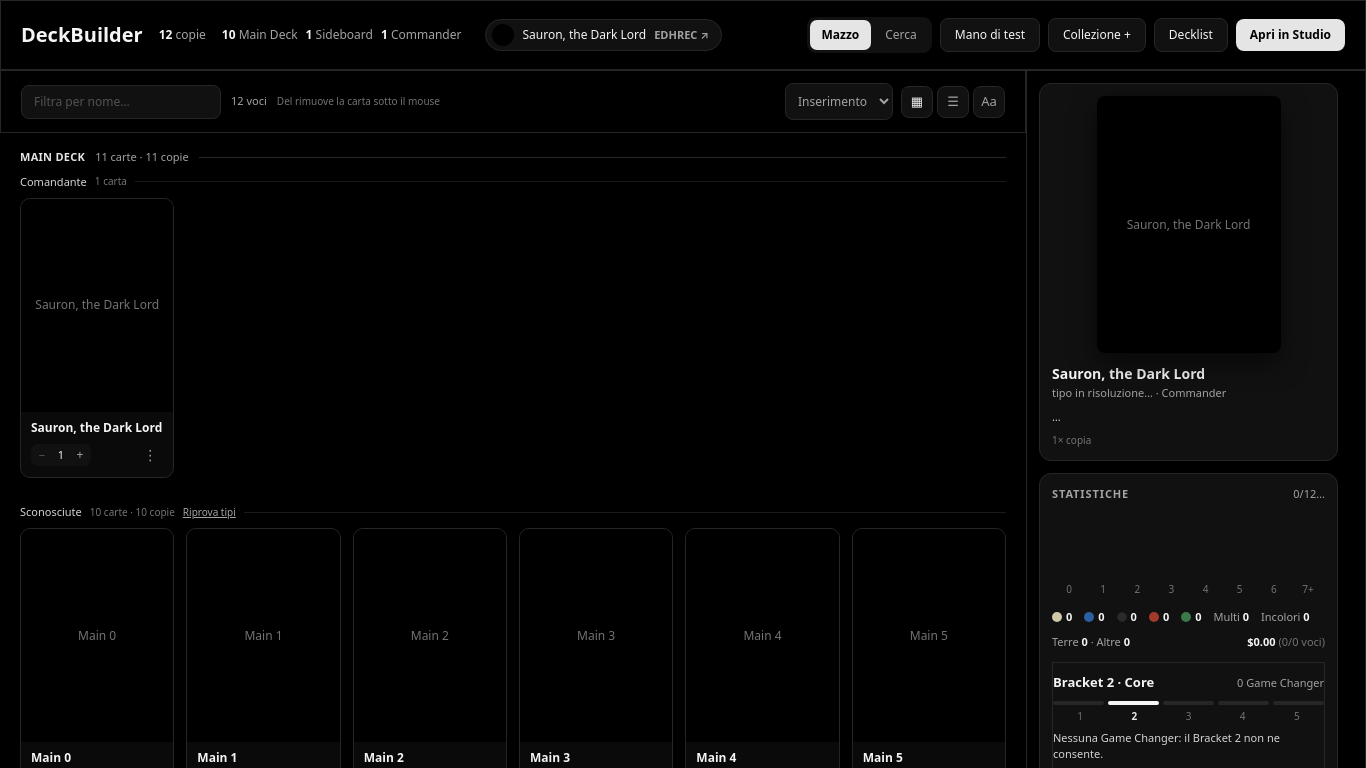
Test: DeckBuilder › mano di test: pesca dalla mainboard, mulligan e pescata
Click the button with test id "db-test-hand" at (990, 35), box 940,18 -> 1040,52
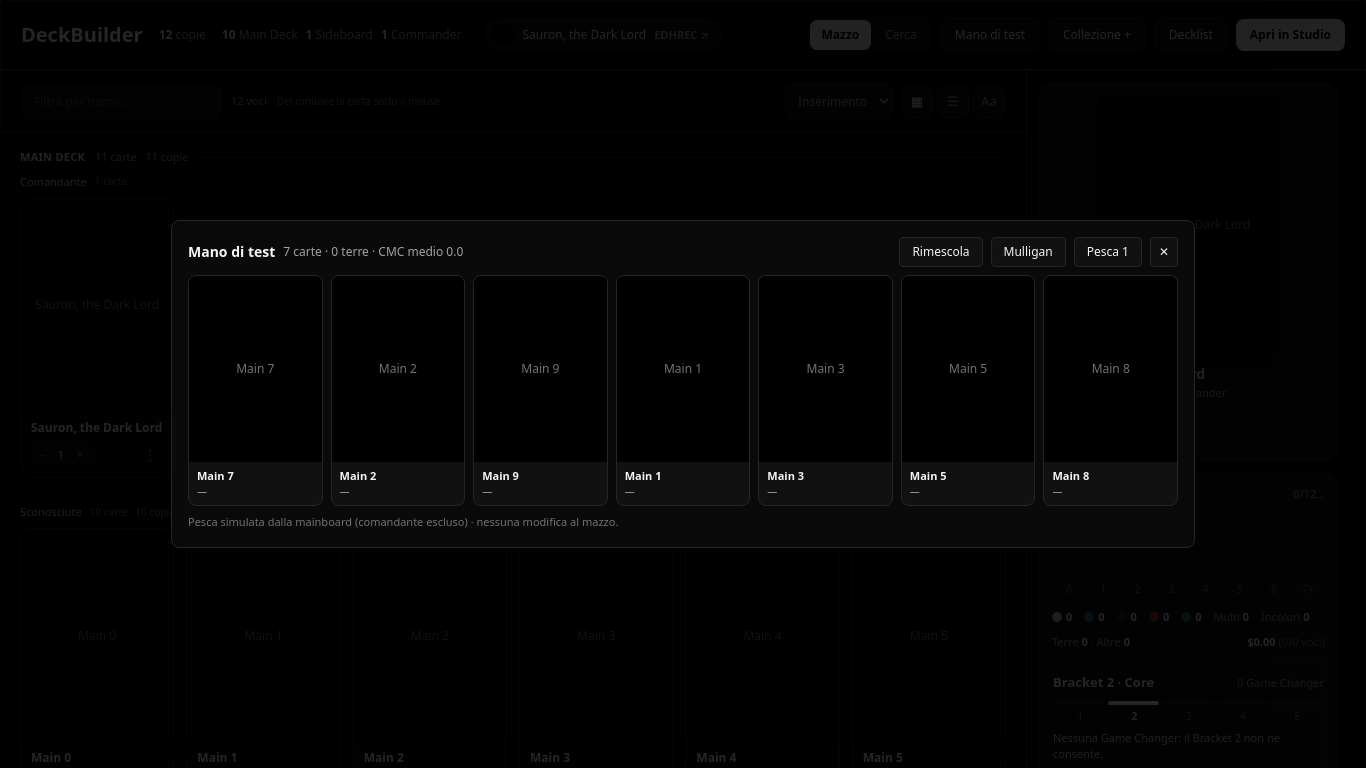
Check: the dialog with test id "test-hand" is shown, box 171,220 -> 1195,548
Check: the number of list items with test id "test-hand-card" is 7
Check: the text with test id "test-hand-summary" shows "7 carte", box 283,244 -> 463,260
Click the button with test id "test-hand-mulligan" at (1028, 252), box 990,237 -> 1066,267
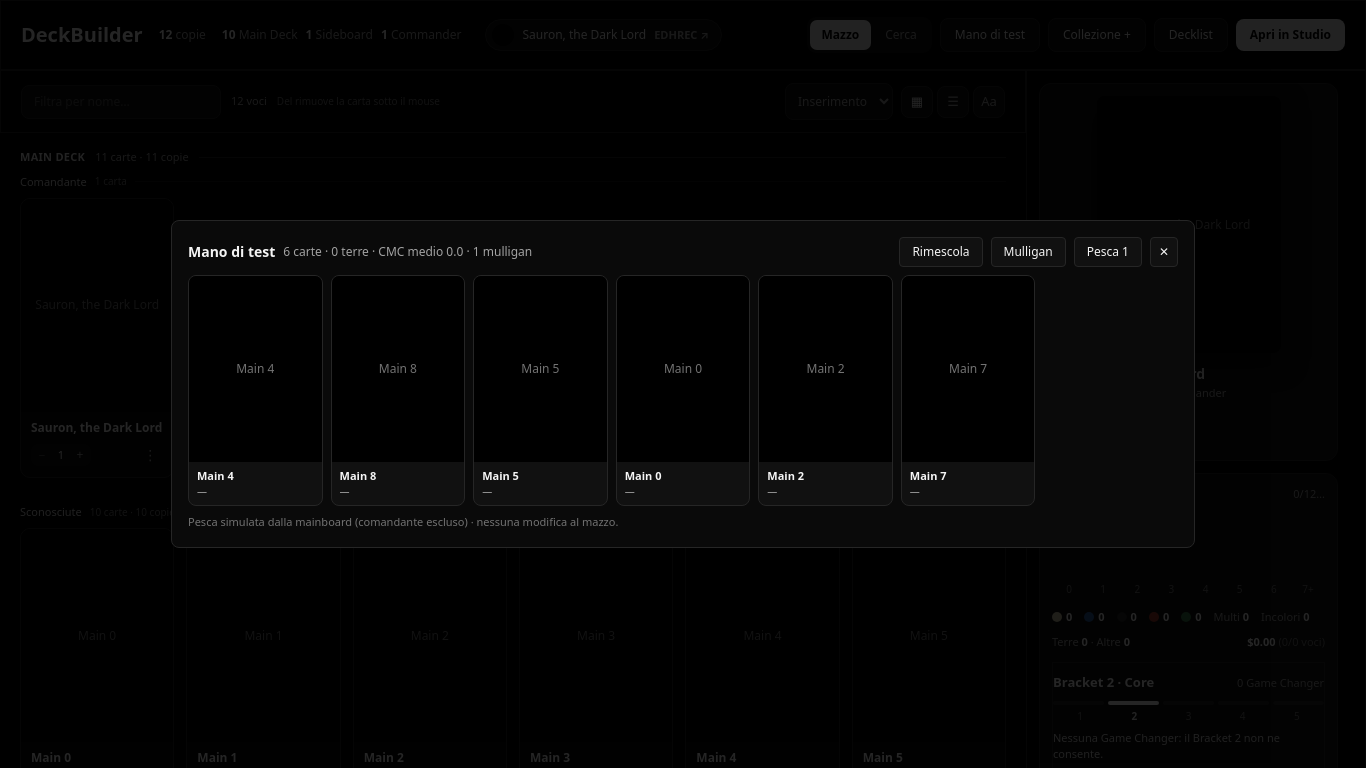
Check: the number of list items with test id "test-hand-card" is 6, box 188,275 -> 323,506; 331,275 -> 465,506; 473,275 -> 608,506; 616,275 -> 750,506; 758,275 -> 893,506; 901,275 -> 1035,506
Check: the text with test id "test-hand-summary" shows "1 mulligan", box 463,243 -> 532,260
Click the button with test id "test-hand-draw" at (1108, 252), box 1074,237 -> 1142,267
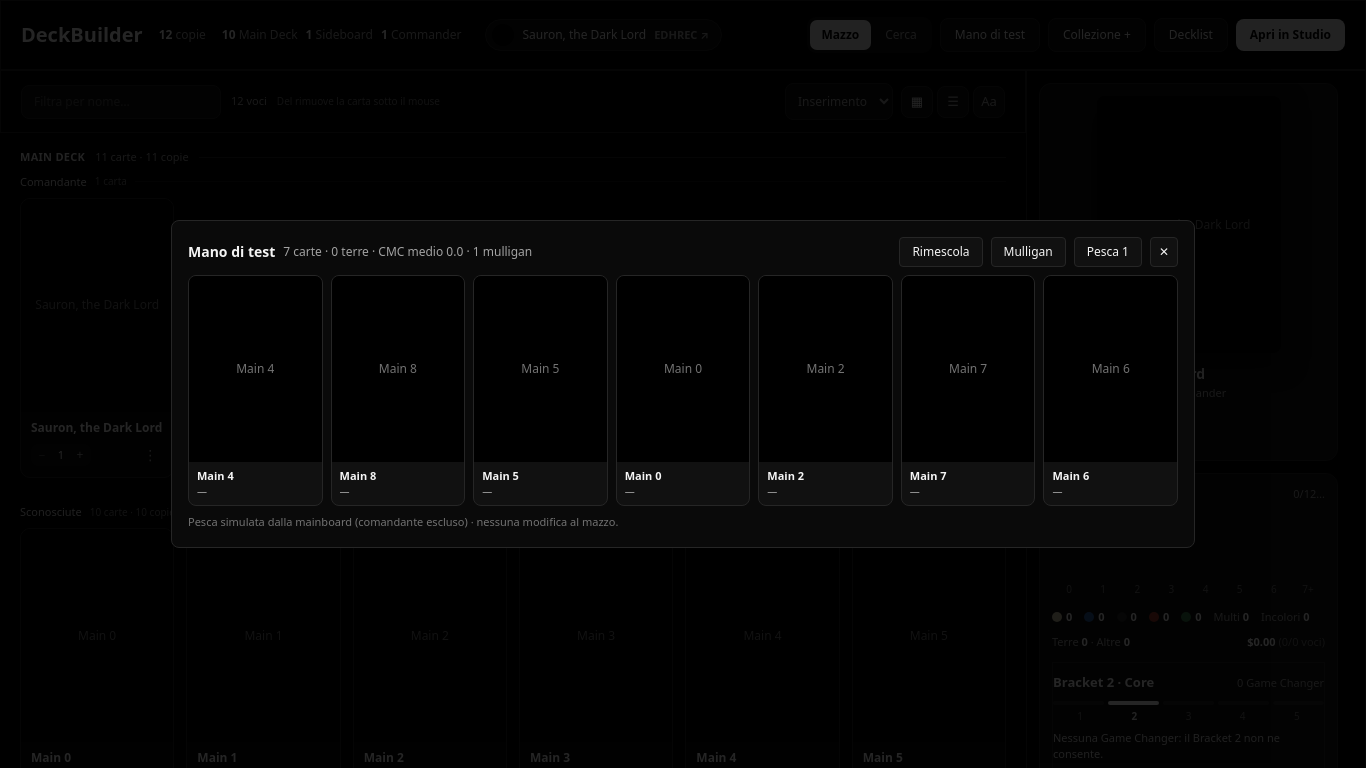
Check: the number of list items with test id "test-hand-card" is 7
Click the button with test id "test-hand-shuffle" at (941, 252), box 899,237 -> 983,267
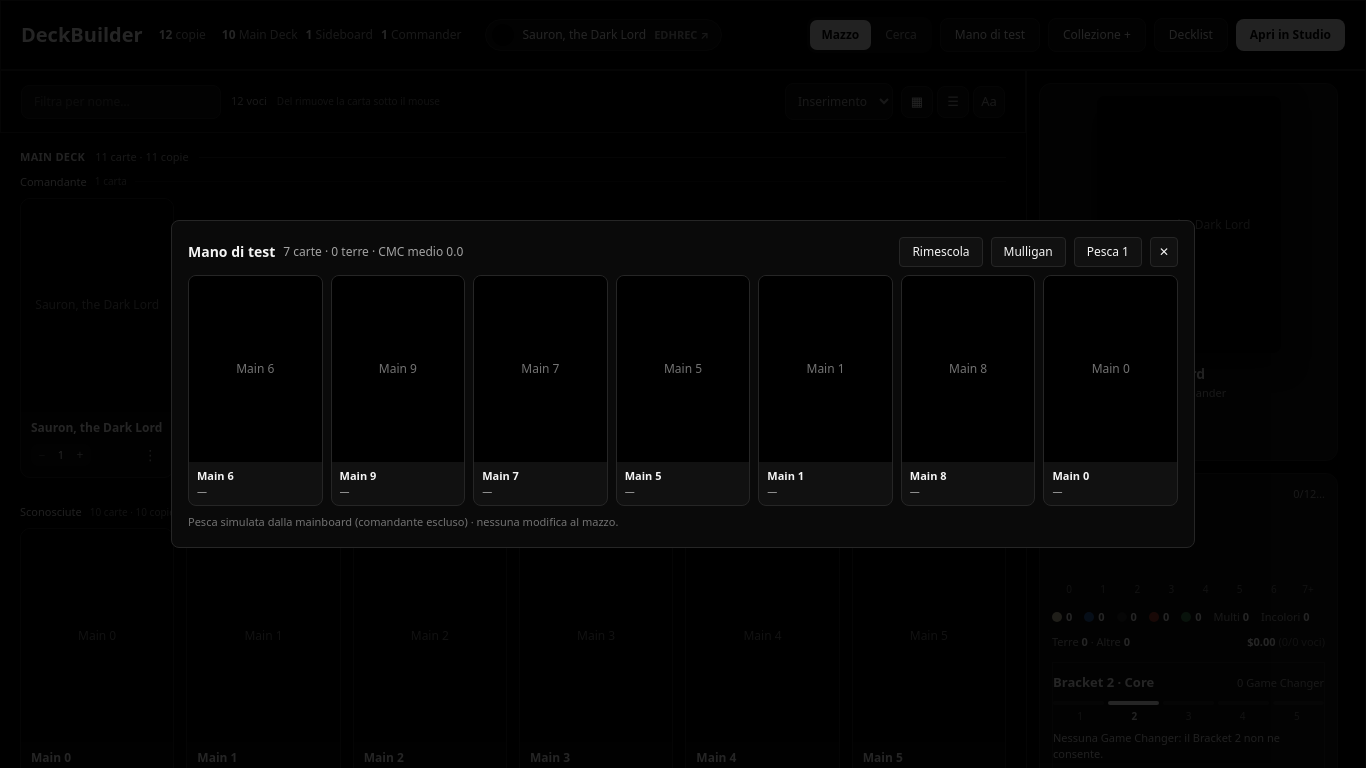
Check: the text with test id "test-hand-summary" does not show "mulligan", box 283,244 -> 463,260
Check: the number of list items with test id "test-hand-card" is 7
Click the button with test id "test-hand-close" at (1164, 252), box 1150,237 -> 1178,267
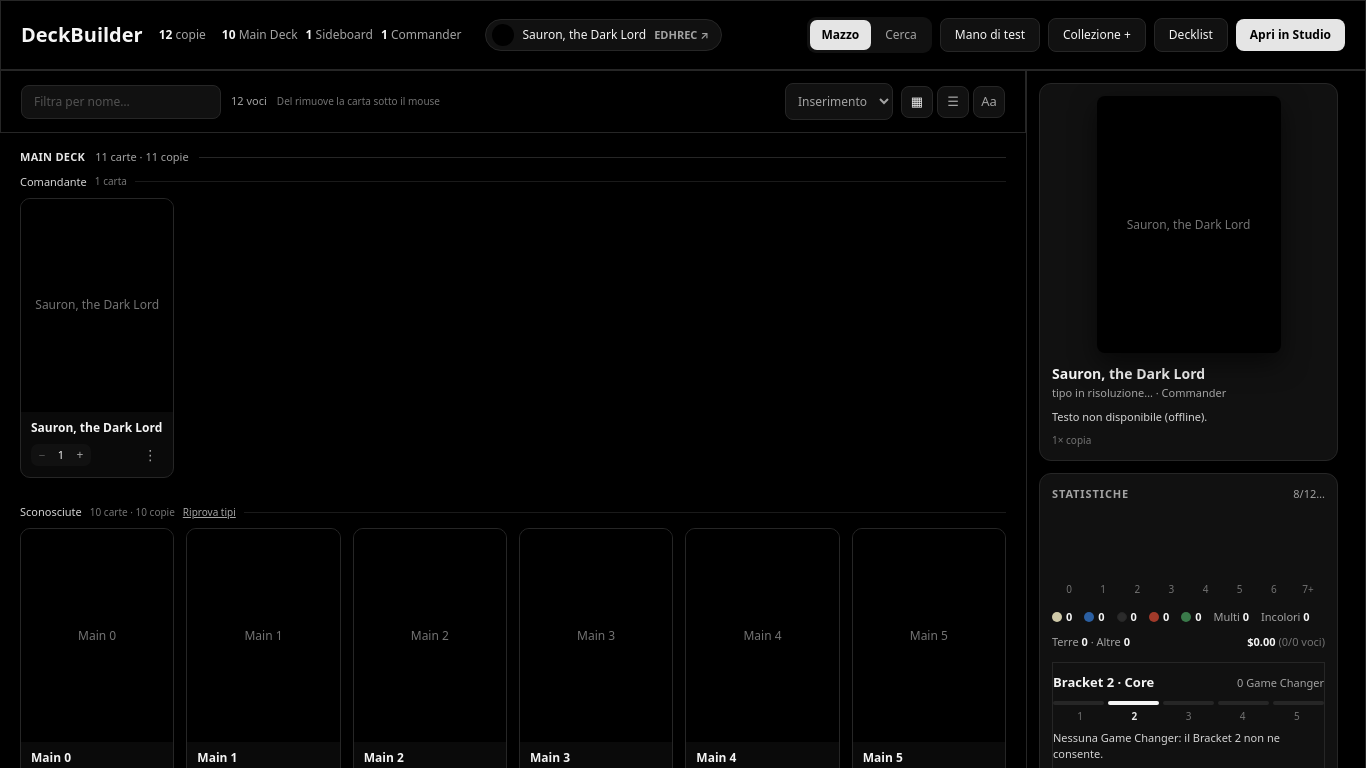
Check: the dialog with test id "test-hand" is gone
